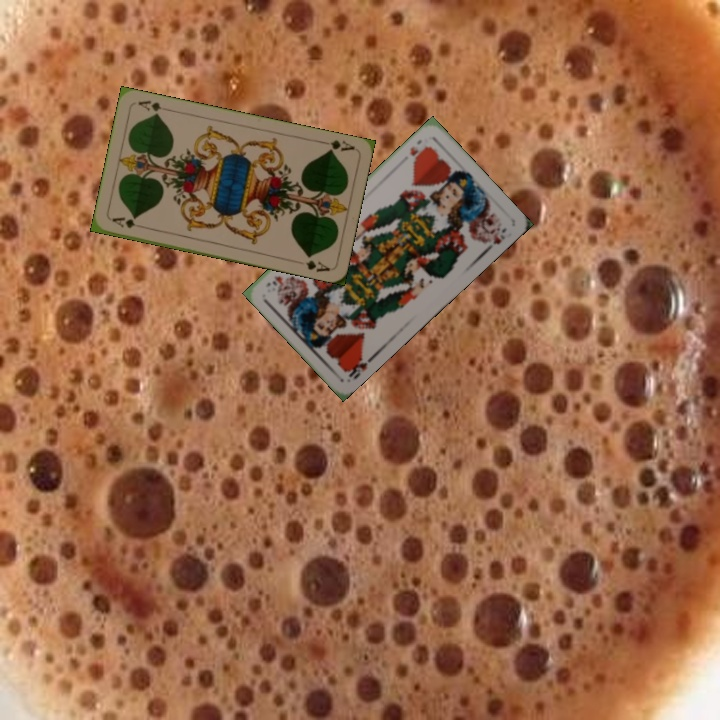GA: (317, 136, 357, 155), (108, 213, 148, 231)
HO: (341, 352, 370, 382), (406, 135, 433, 163)
